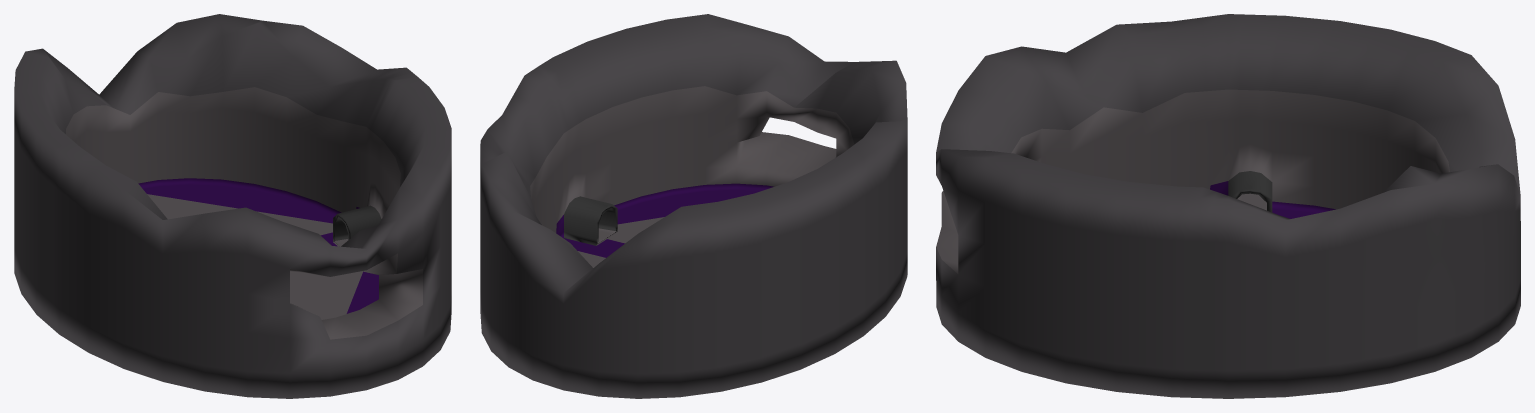
File: Arena.fbx
The picture shows the model from 3 angles, left to right: view 1: azimuth 30°, elevation 25°; view 2: azimuth 150°, elevation 25°; view 3: azimuth 270°, elevation 25°; orthographic projection. The views are drawn at different scales.
Parts seen in each view (by area): view 1: Arena; view 2: Arena; view 3: Arena.
Part boxes in pixels (<box>): Arena: <box>14,14,451,398</box>; Arena: <box>480,14,907,398</box>; Arena: <box>936,14,1520,398</box>.
Size of the model in its own units: 6970 by 3506 by 9296.
